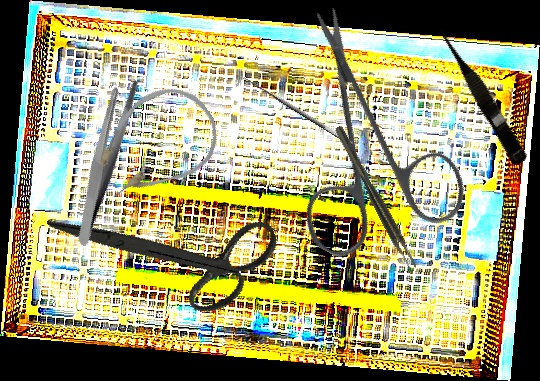Cannula: (75, 70, 234, 219)
Dressing Forceps: (36, 72, 173, 248)
Hook Surgical: (233, 71, 355, 155)
Iris Scissors: (220, 2, 516, 298), (47, 147, 293, 356)
Micro Scissor: (432, 21, 532, 167)
Tissue Forceps: (334, 122, 419, 273)
